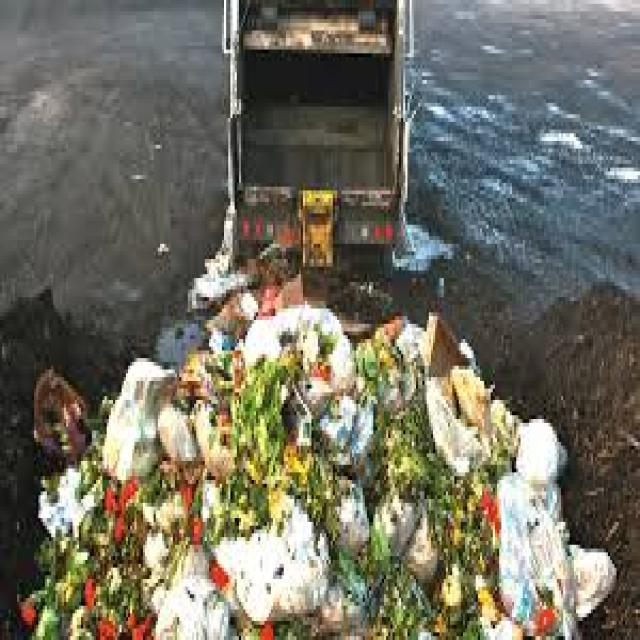Organik: (6, 255, 640, 636), (109, 346, 513, 640)
